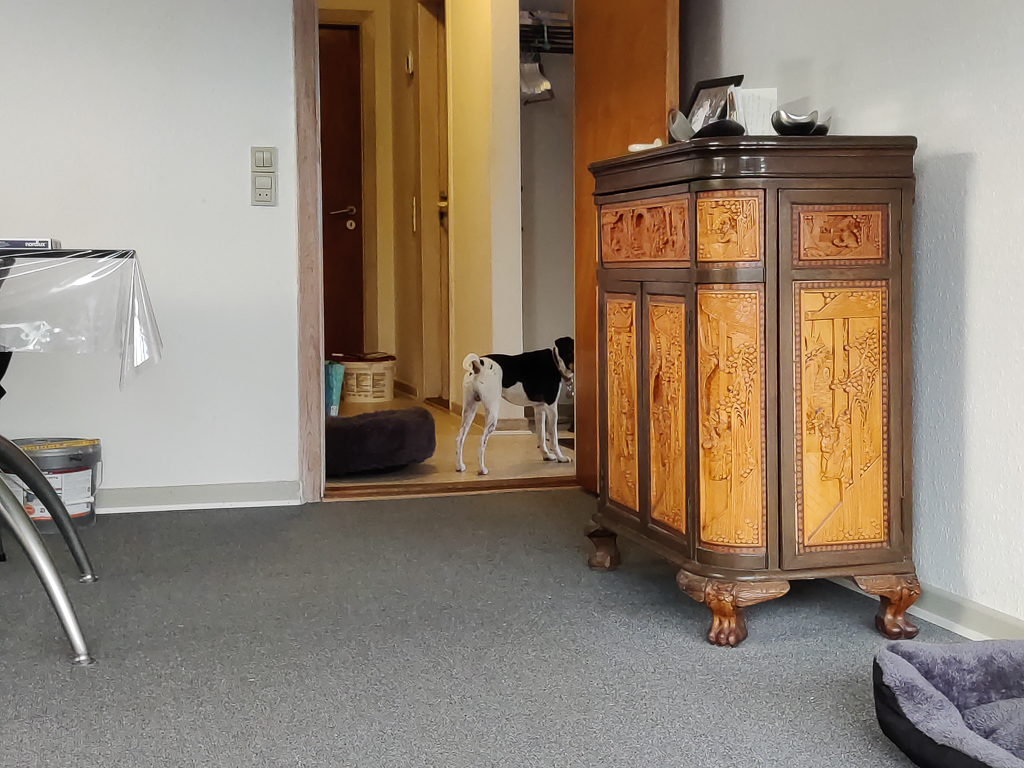Dog: (444, 330, 578, 479)
